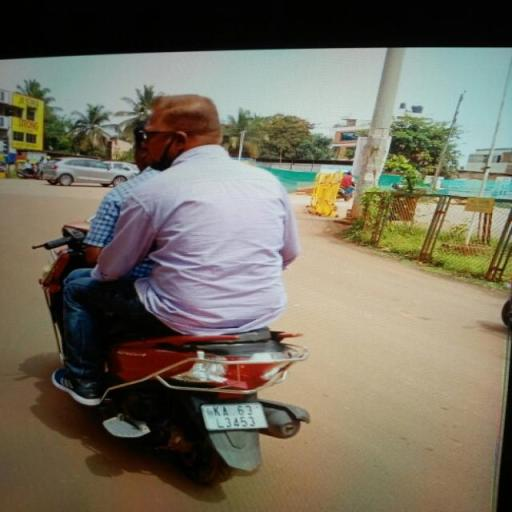bike: (23, 87, 327, 477)
numberplate: (200, 397, 266, 433)
withouthelmet: (146, 96, 217, 150)
